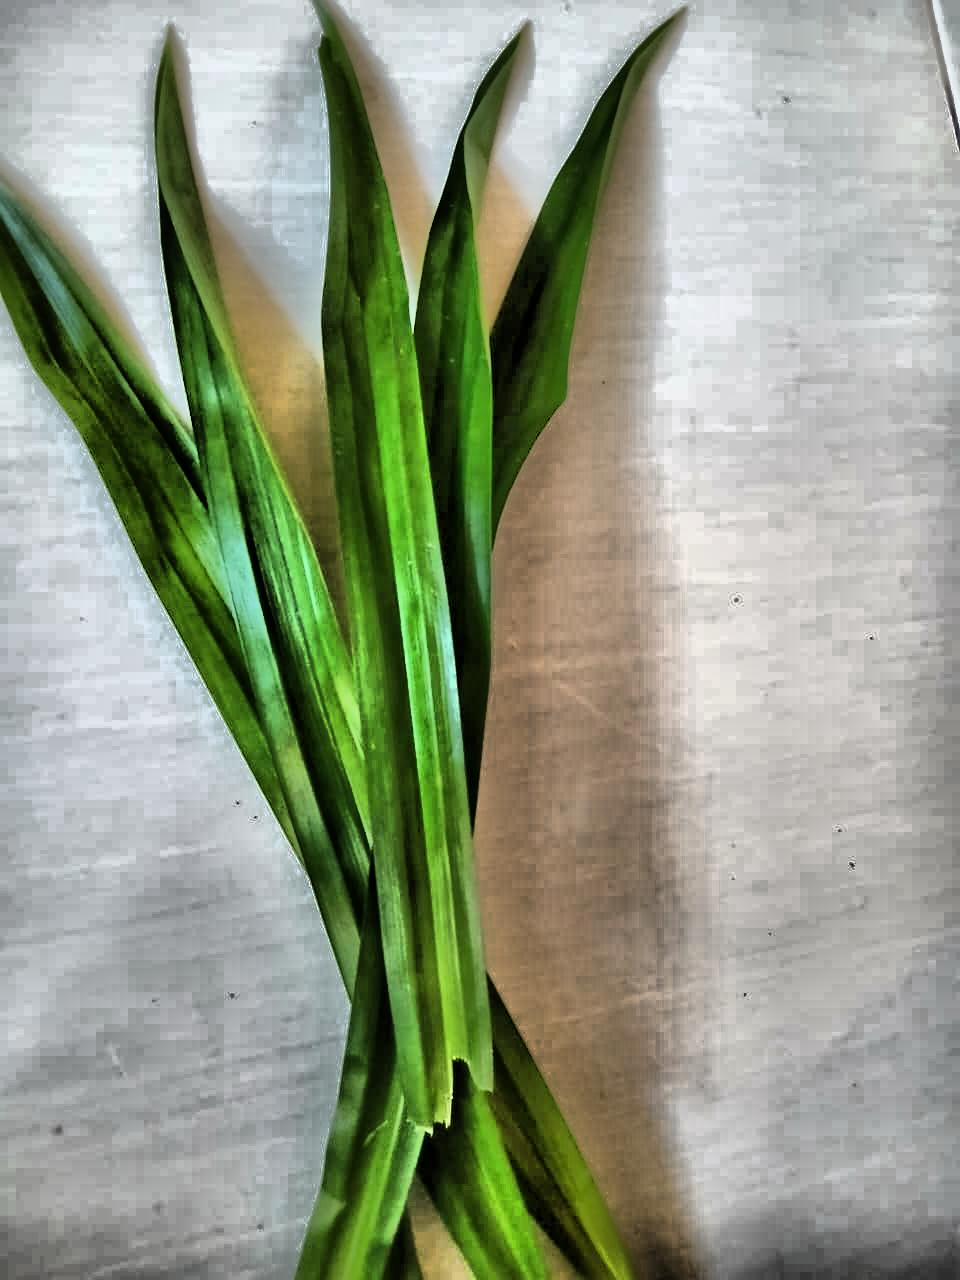daun pandan: (0, 0, 678, 1279)
